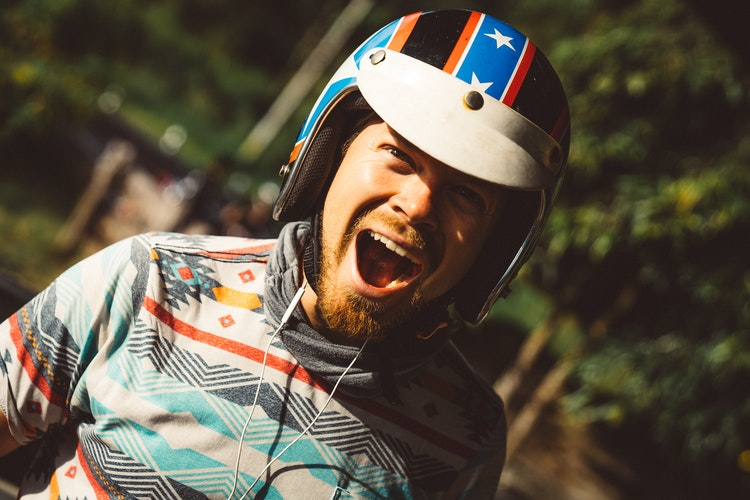helmet: (287, 22, 571, 292)
